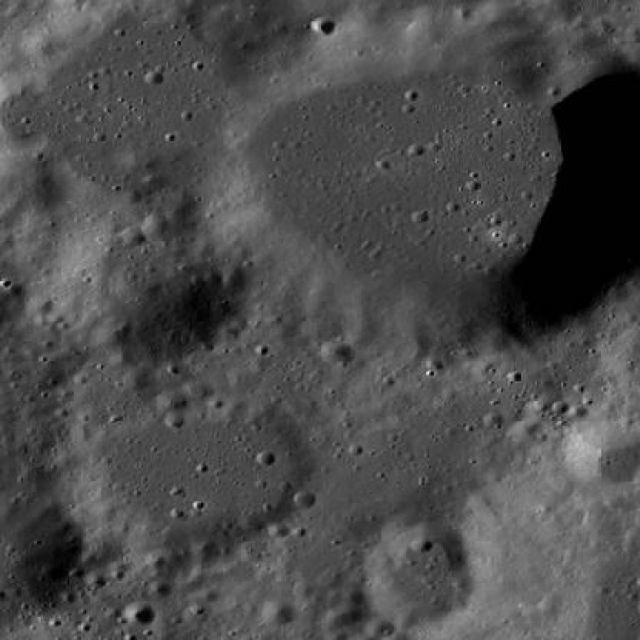crater: (0, 0, 394, 292), (57, 376, 305, 566), (34, 216, 238, 370), (356, 530, 479, 624), (563, 422, 640, 486), (390, 523, 462, 579), (0, 142, 54, 215), (150, 546, 195, 582), (93, 322, 132, 351), (122, 140, 160, 168), (484, 0, 524, 26), (222, 364, 258, 392), (327, 602, 361, 628), (263, 598, 297, 624), (23, 30, 57, 56), (164, 194, 196, 220), (321, 340, 354, 365), (366, 616, 397, 639), (140, 214, 171, 237), (126, 602, 157, 624), (157, 390, 185, 412), (512, 420, 540, 442), (120, 223, 148, 244), (182, 380, 208, 400), (124, 371, 150, 391), (193, 542, 219, 562), (28, 296, 52, 316), (110, 350, 133, 370), (342, 584, 367, 602), (312, 18, 336, 36), (87, 570, 110, 588), (148, 580, 172, 597), (293, 490, 315, 508), (592, 14, 614, 32), (326, 629, 348, 640), (0, 0, 2, 2)
